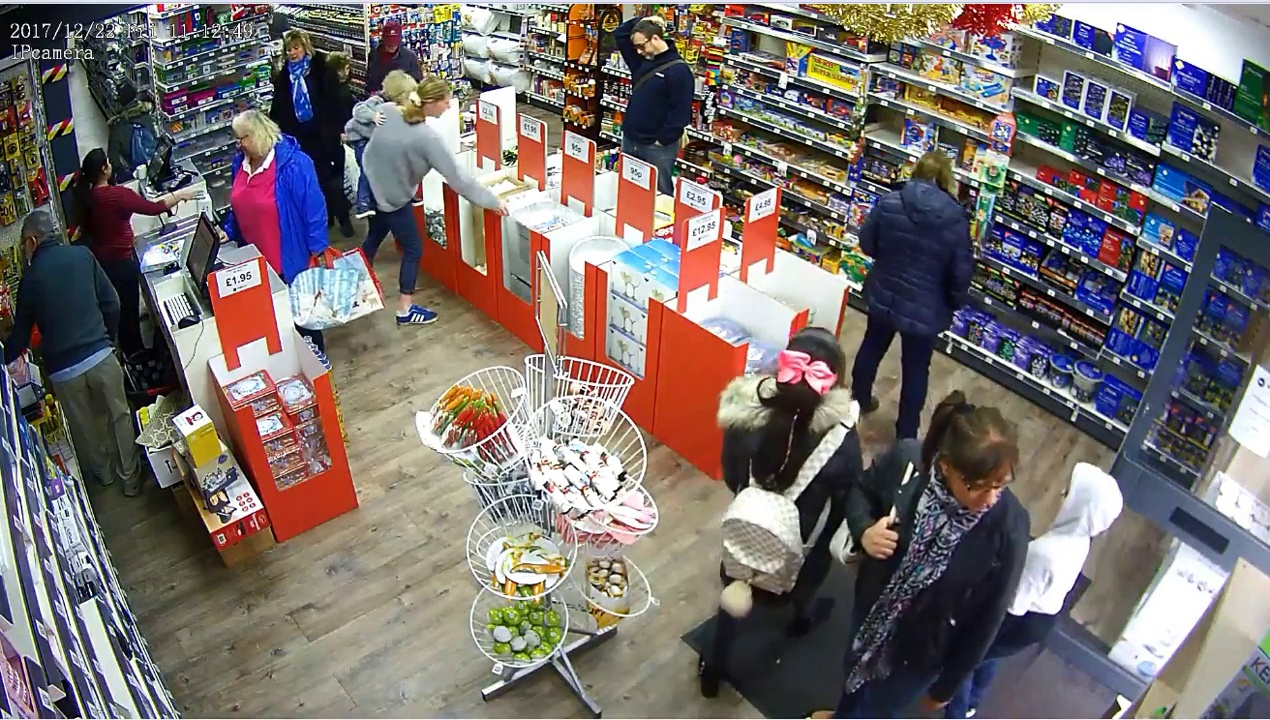face: (956, 458, 1012, 518), (626, 25, 665, 59), (231, 121, 256, 163), (281, 42, 303, 65)
